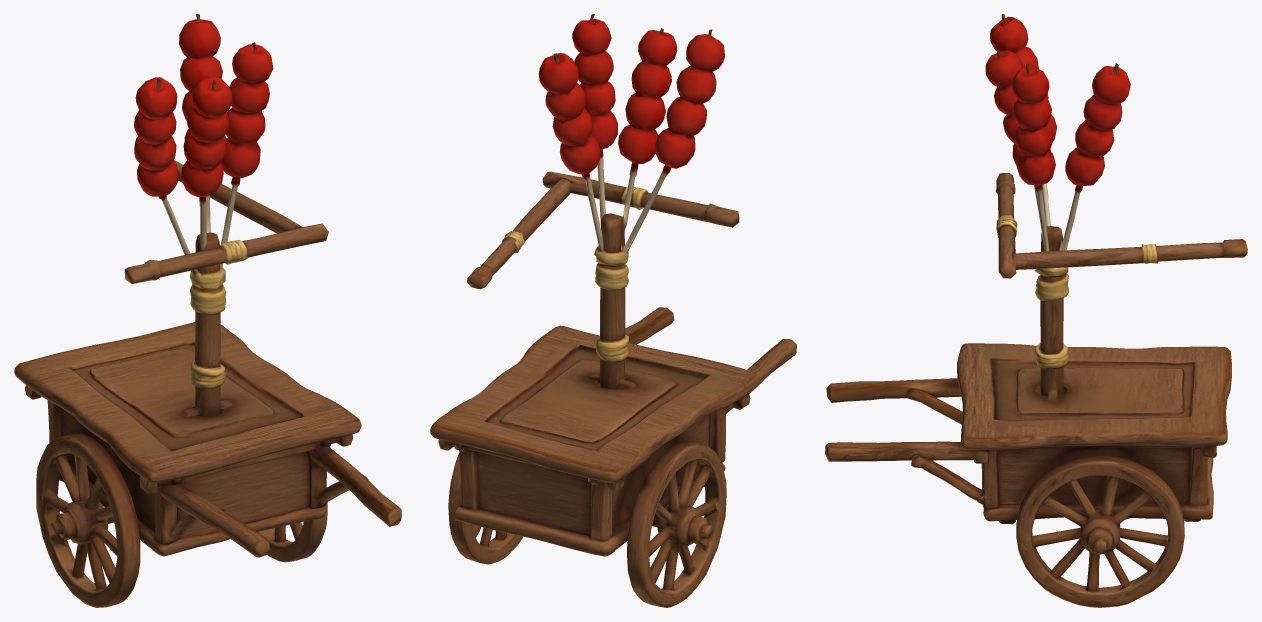
File: stall-tanghulu.glb
The picture shows the model from 3 angles, left to right: view 1: azimuth 30°, elevation 25°; view 2: azimuth 150°, elevation 25°; view 3: azimuth 270°, elevation 25°; orthographic projection. The views are drawn at different scales.
Parts seen in each view (by area): view 1: tripo_node_1cf46668-a09f-4f43-8423-0518ad17507a; view 2: tripo_node_1cf46668-a09f-4f43-8423-0518ad17507a; view 3: tripo_node_1cf46668-a09f-4f43-8423-0518ad17507a.
Boxes of the visible parts, x1=… form: tripo_node_1cf46668-a09f-4f43-8423-0518ad17507a: x1=14, y1=14, x2=401, y2=607; tripo_node_1cf46668-a09f-4f43-8423-0518ad17507a: x1=430, y1=14, x2=796, y2=607; tripo_node_1cf46668-a09f-4f43-8423-0518ad17507a: x1=825, y1=14, x2=1247, y2=607.
Size of the model in its own units: 0.4811 by 1 by 0.7448.
1 material, 1 textured.
